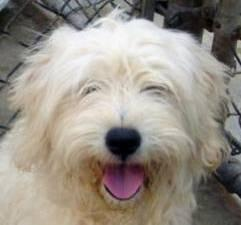dog: (0, 9, 230, 224)
